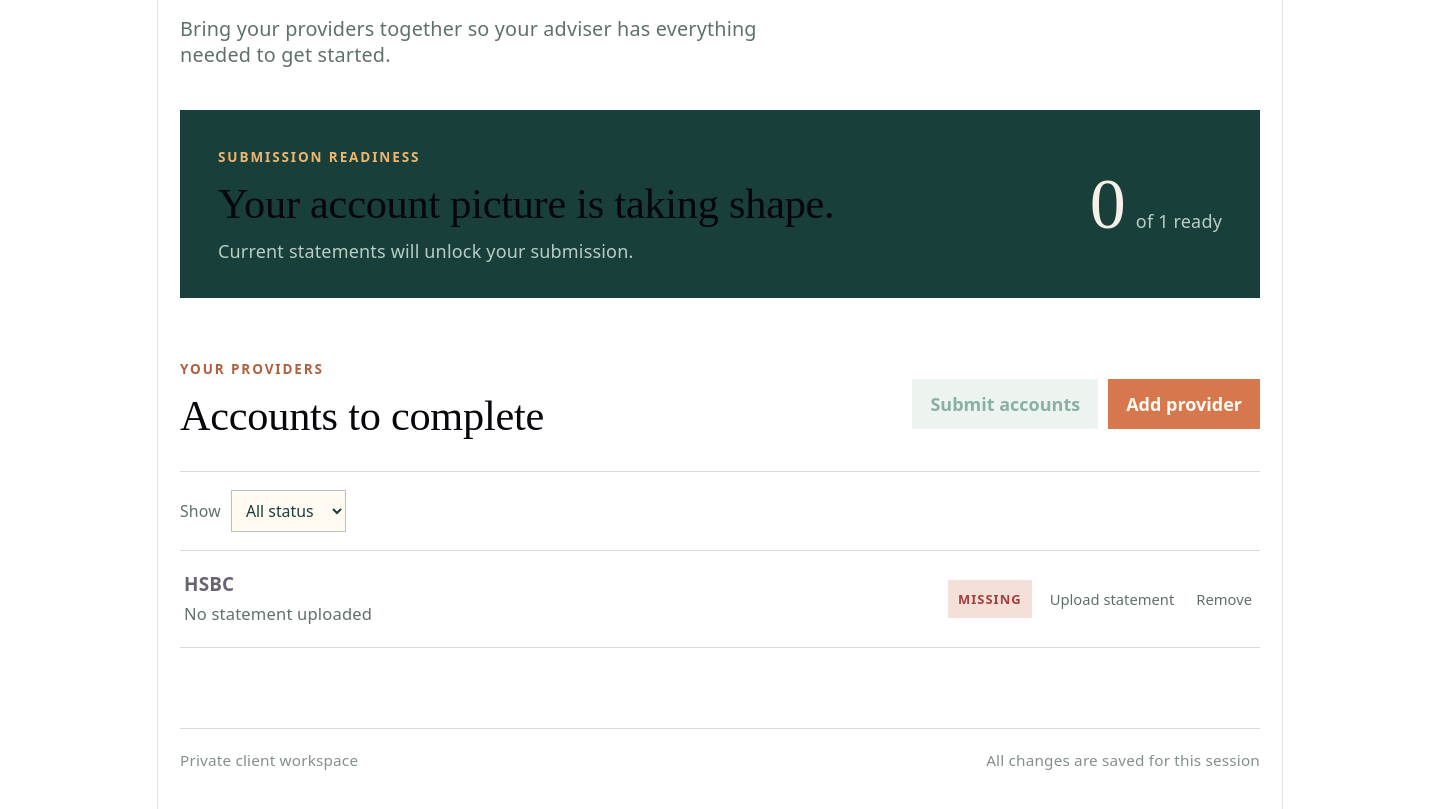
Test: App › uploads a statement and refreshes the account row
(page scrolled)
Expected: the heading "HSBC" is shown, [184, 571, 234, 597]
Click the button "Upload statement" at [1112, 599], box [1046, 582, 1178, 616]
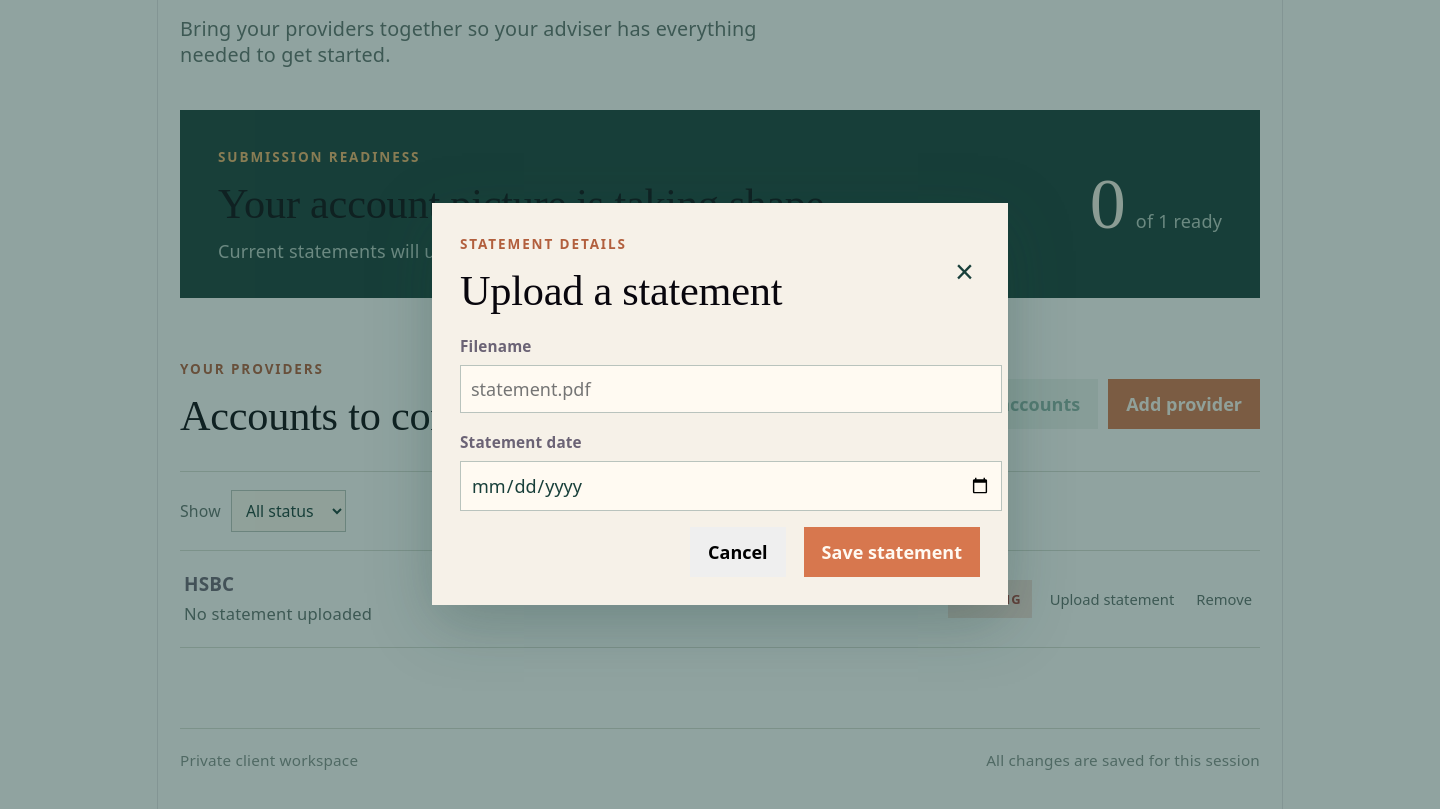
Type "hsbc-august.pdf" into the field labelled "Filename" at [731, 389], box [460, 365, 1002, 413]
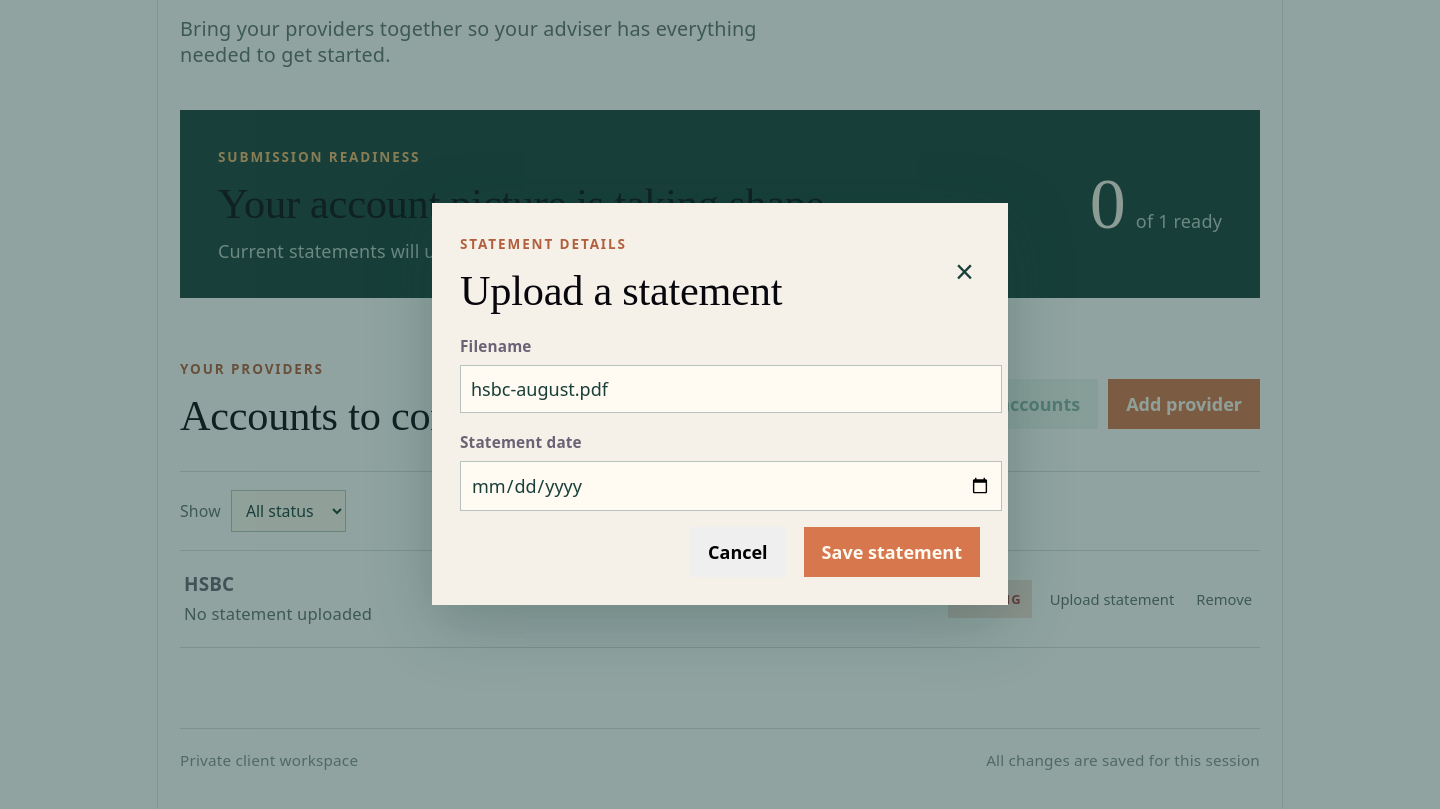
Type "2026-08-01" into the date field labelled "Statement date" at [731, 486], box [460, 461, 1002, 511]
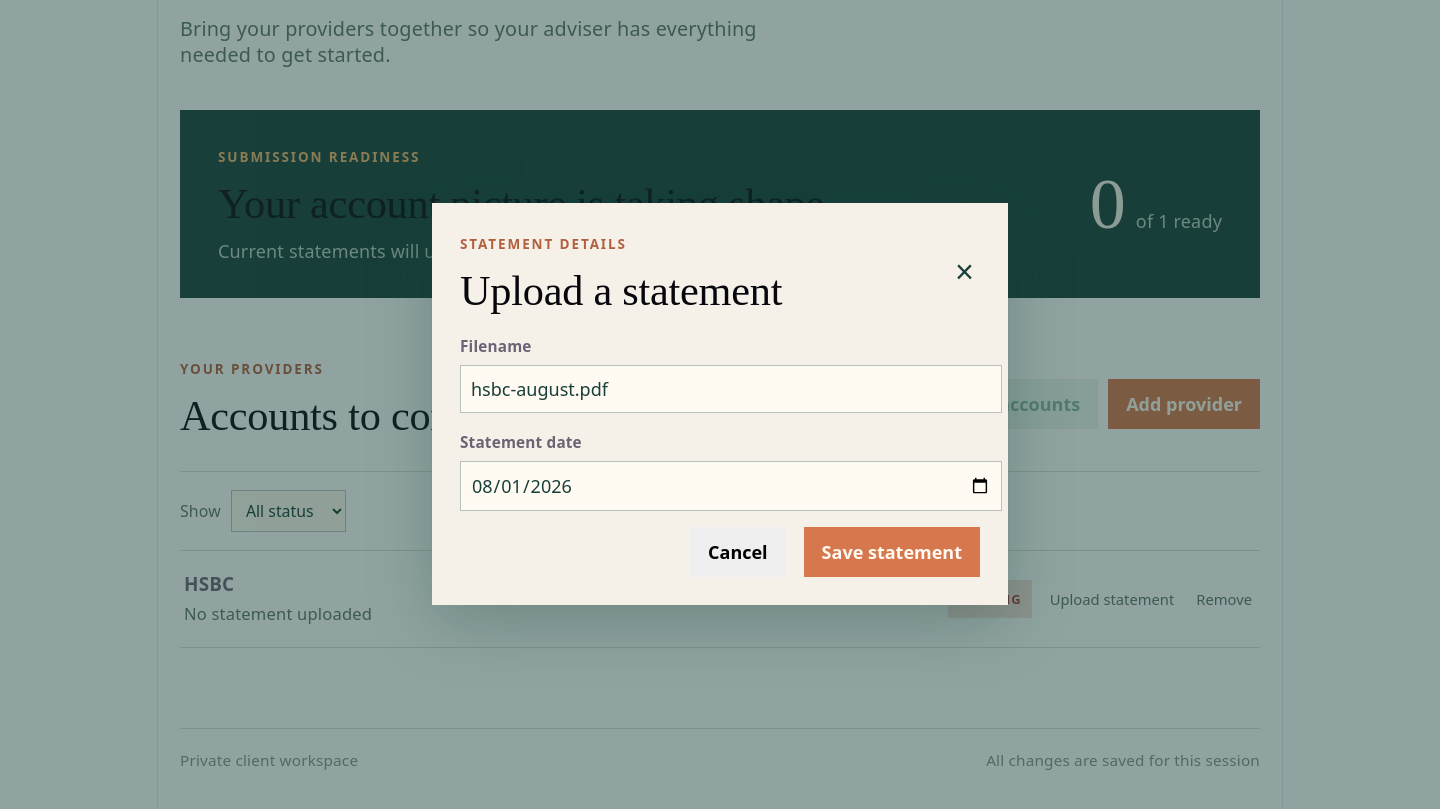
Click the button "Save statement" at [892, 552], box [804, 527, 980, 578]
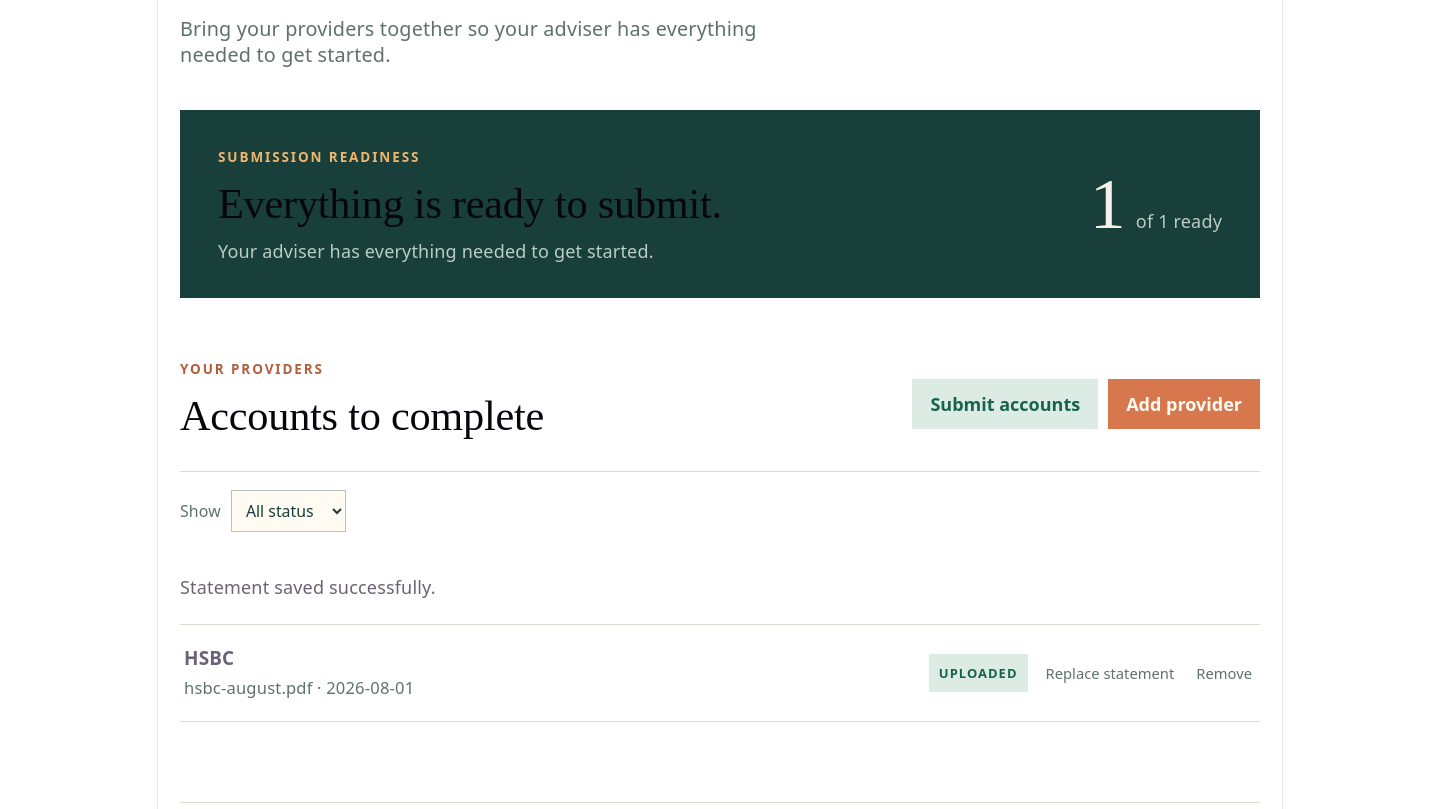
Expected: the text "Statement saved successfully." is shown, [180, 575, 436, 599]
Expected: the text "hsbc-august.pdf · 2026-08-01" is shown, [184, 675, 414, 701]
